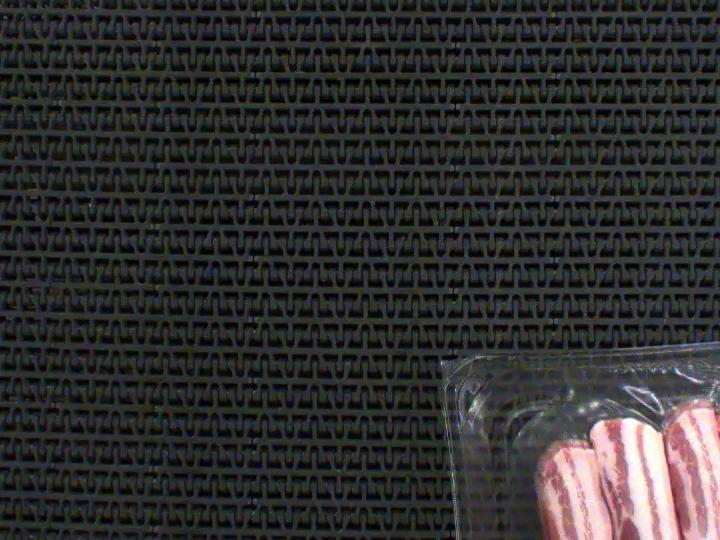unsealed: (507, 332, 720, 540)
